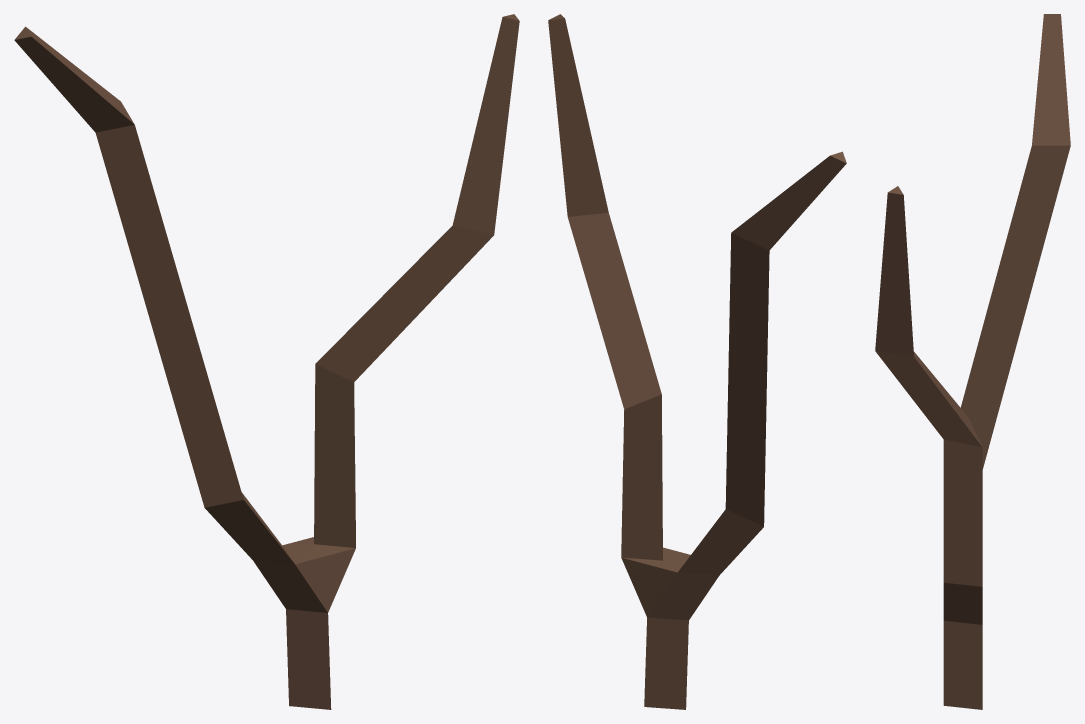
The model's file is baretree3.fbx.
3 renders of one model, left to right at view 1: azimuth 30°, elevation 25°; view 2: azimuth 150°, elevation 25°; view 3: azimuth 270°, elevation 25°, orthographic. The views are drawn at different scales.
Parts seen in each view (by area): view 1: baretree3; view 2: baretree3; view 3: baretree3.
Boxes of the visible parts, bbox=[...] form: baretree3: bbox=[14, 14, 519, 709]; baretree3: bbox=[548, 14, 846, 709]; baretree3: bbox=[875, 14, 1070, 709].
Size of the model in its own units: 140 by 224 by 67.03.
